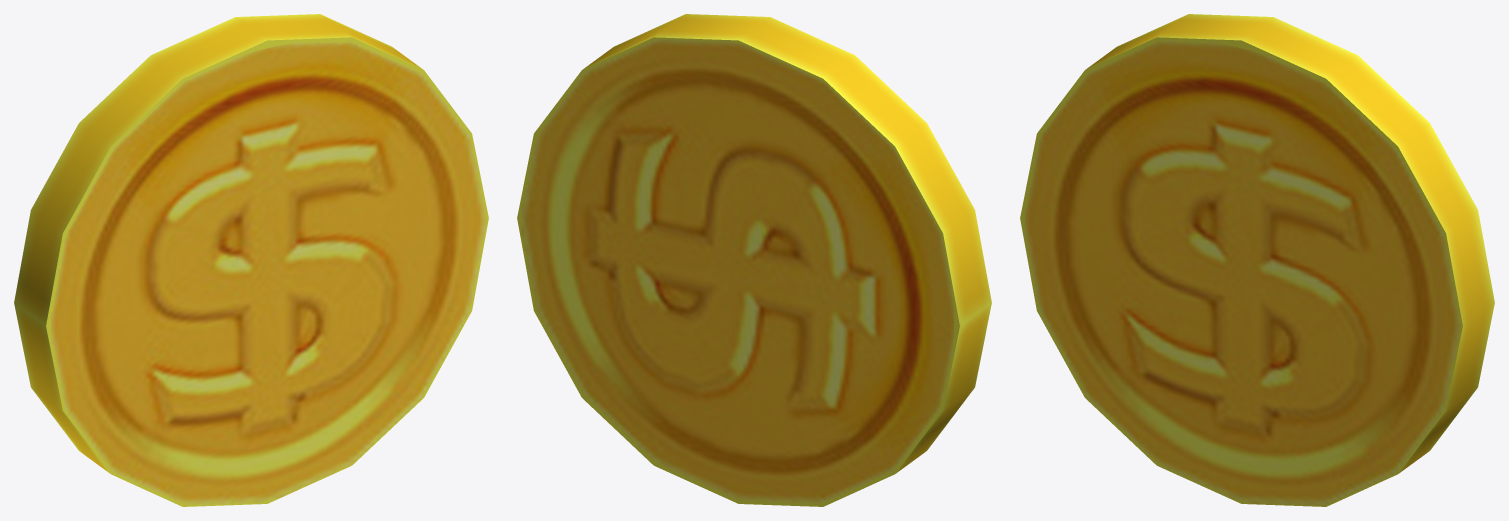
Rendered from coin1.FBX.
The picture shows the model from 3 angles, left to right: view 1: azimuth 30°, elevation 25°; view 2: azimuth 150°, elevation 25°; view 3: azimuth 330°, elevation 25°; orthographic projection.
Visible parts, largest first — view 1: Cylinder001; view 2: Cylinder001; view 3: Cylinder001.
Boxes of the visible parts, x1,y1,x2,y2 form: Cylinder001: (14, 14, 488, 506); Cylinder001: (517, 14, 991, 506); Cylinder001: (1020, 14, 1494, 506).
Bounding box in the file's own units: 400 × 400 × 50.
Materials: 1 (1 with a texture image).
